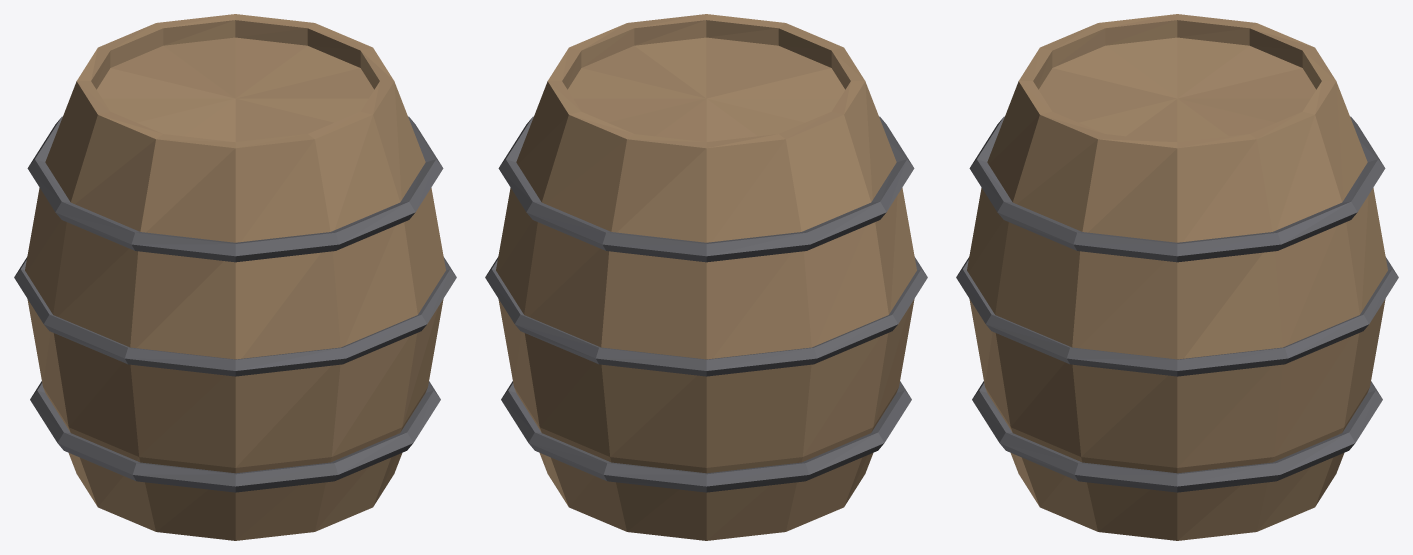
Rendered from barrel.glb.
The picture shows the model from 3 angles, left to right: view 1: azimuth 30°, elevation 25°; view 2: azimuth 150°, elevation 25°; view 3: azimuth 270°, elevation 25°; orthographic projection.
Parts seen in each view (by area): view 1: barrel; view 2: barrel; view 3: barrel.
Boxes of the visible parts, x1,y1,x2,y2 form: barrel: [14, 14, 456, 540]; barrel: [485, 14, 927, 540]; barrel: [956, 14, 1398, 540].
Bounding box in the file's own units: 0.92 × 0.9 × 0.92.
